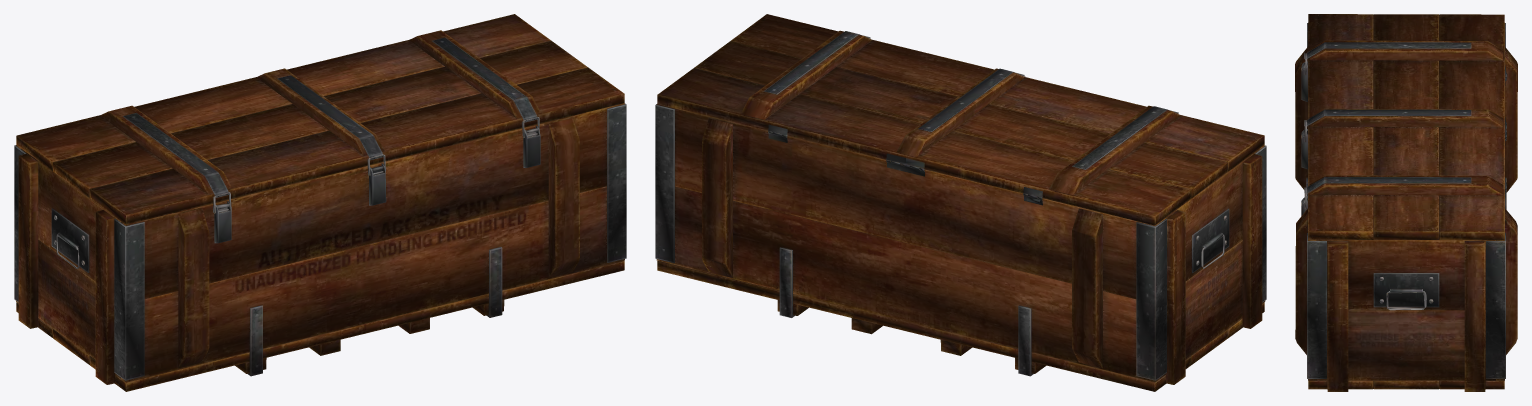
Rendered from crateWood.glb.
3 renders of one model, left to right at view 1: azimuth 30°, elevation 25°; view 2: azimuth 150°, elevation 25°; view 3: azimuth 270°, elevation 25°, orthographic. The views are drawn at different scales.
Visible parts, largest first — view 1: wooden_military_crate; view 2: wooden_military_crate; view 3: wooden_military_crate.
Part boxes in pixels (x1,y1,x2,y2): wooden_military_crate: [14, 14, 626, 391]; wooden_military_crate: [655, 14, 1266, 391]; wooden_military_crate: [1295, 14, 1517, 391].
Size of the model in its own units: 1.24 by 0.4639 by 0.5197.
1 material, 1 textured.
